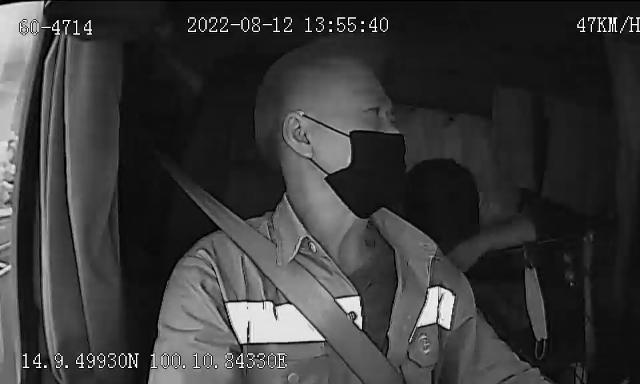Seatbelt: (168, 164, 404, 384)
